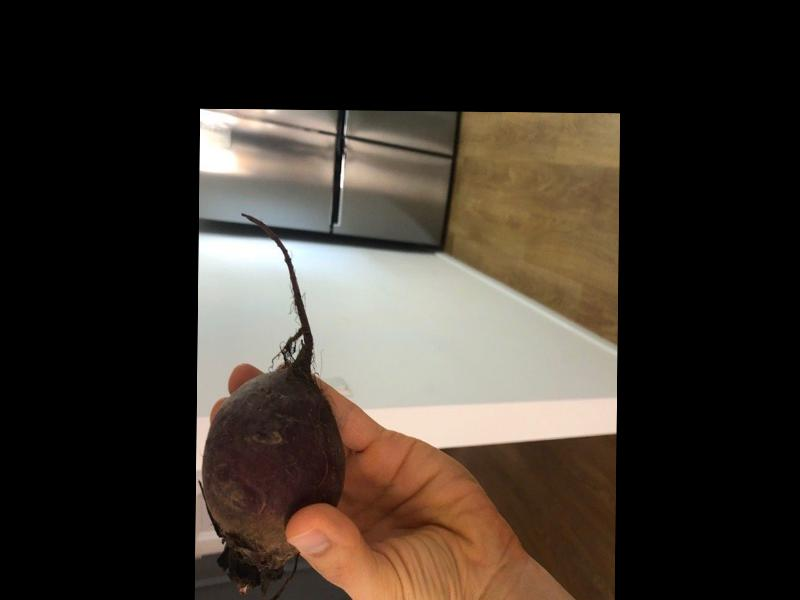Beet: (197, 214, 344, 600)
